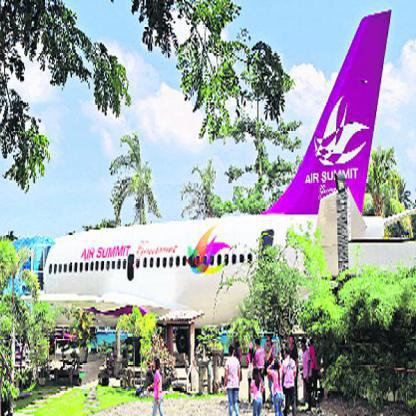CIV_Plane: (11, 10, 409, 328)
